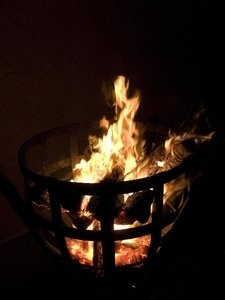fire: (68, 73, 205, 183)
